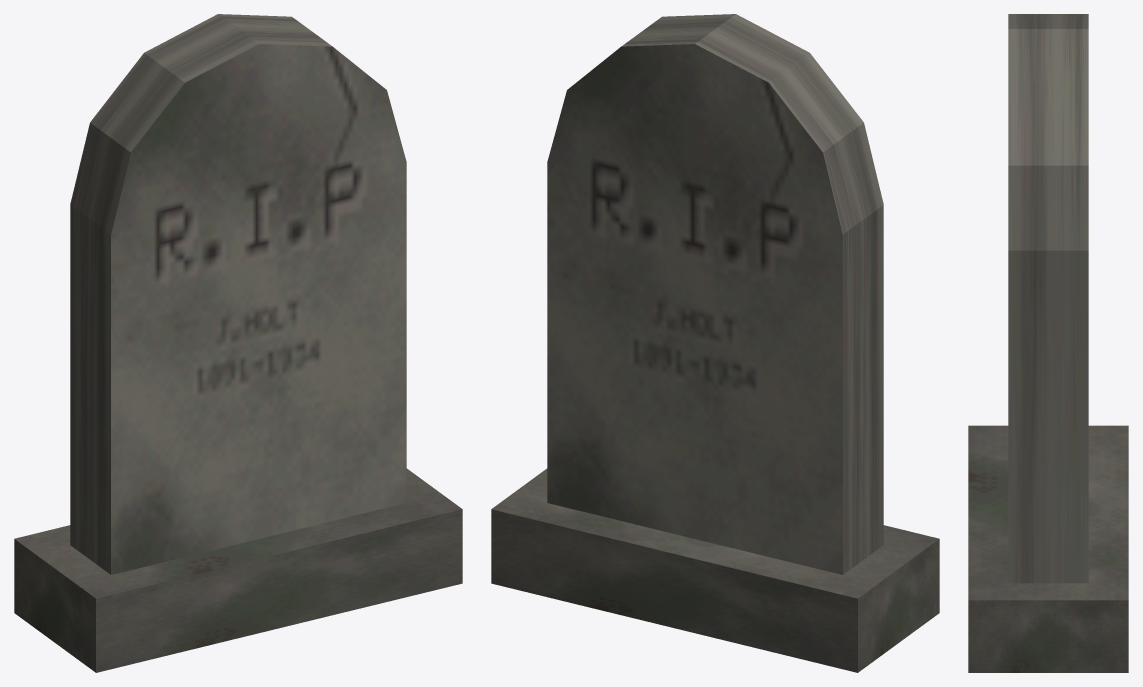
The model's file is gravestone_round.obj.
The picture shows the model from 3 angles, left to right: view 1: azimuth 30°, elevation 25°; view 2: azimuth 150°, elevation 25°; view 3: azimuth 270°, elevation 25°; orthographic projection. The views are drawn at different scales.
Visible parts, largest first — view 1: gravestone_round; view 2: gravestone_round; view 3: gravestone_round.
Boxes of the visible parts, <box> form: gravestone_round: <box>14,14,462,672</box>; gravestone_round: <box>491,14,939,672</box>; gravestone_round: <box>968,14,1128,672</box>.
Size of the model in its own units: 0.62 by 0.92 by 0.24.
1 material, 1 textured.
